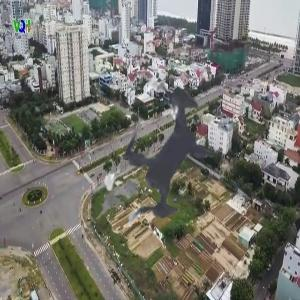drone: (51, 45, 281, 275)
